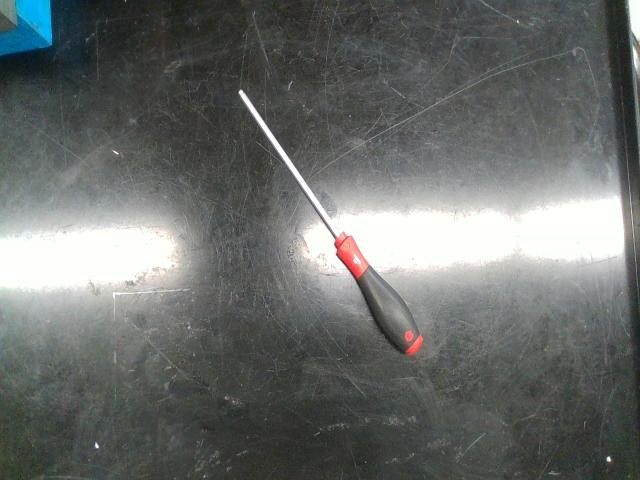Screwdriver: (239, 90, 424, 355)
